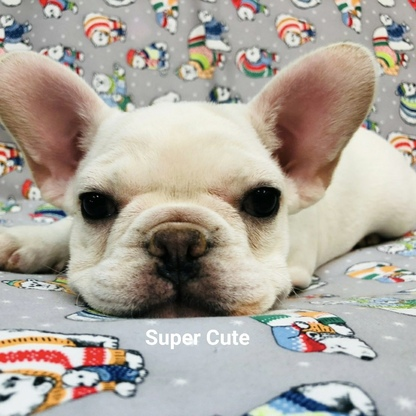bulldog: (5, 38, 412, 316)
